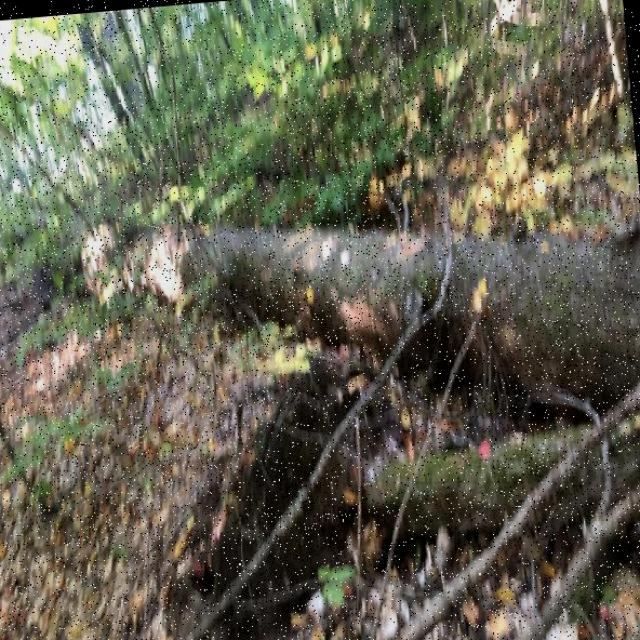fallen_object: (55, 164, 640, 439), (349, 408, 640, 554)
